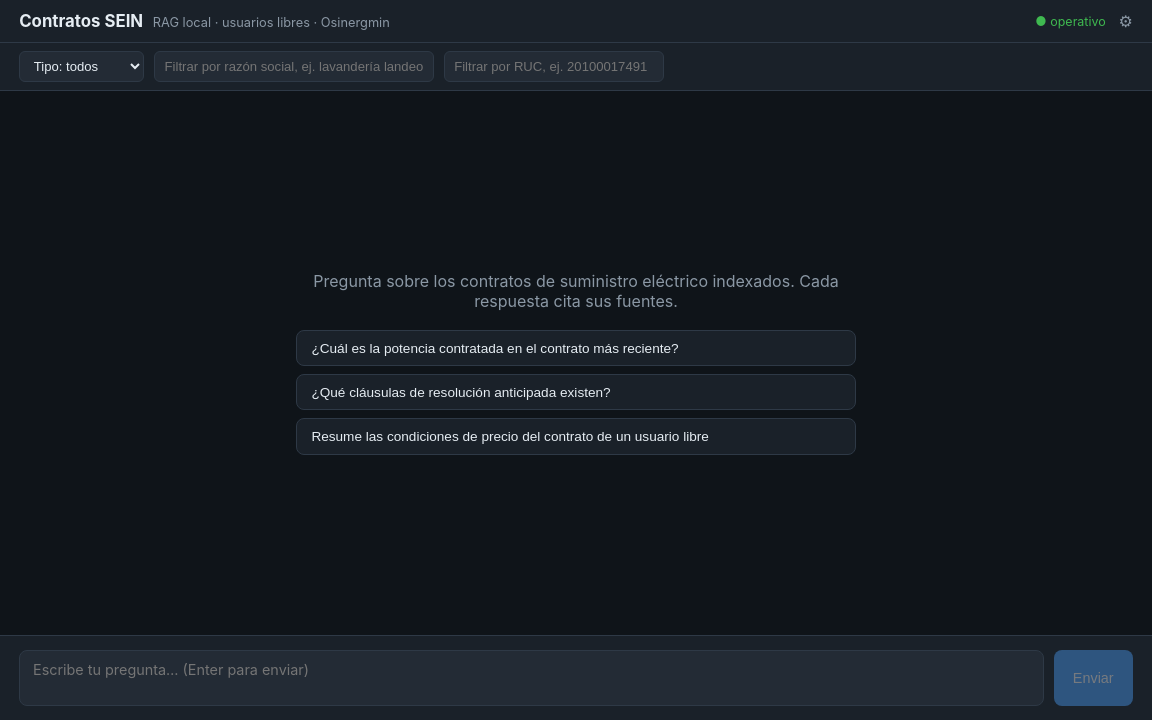
Test case: App › muestra el error del backend sin romper la conversación
Type "¿Potencia contratada?" into the text box with placeholder "Escribe tu pregunta… (Enter para enviar)".
click(532, 678); type("¿Potencia contratada?")  # box [19,650,1044,706]
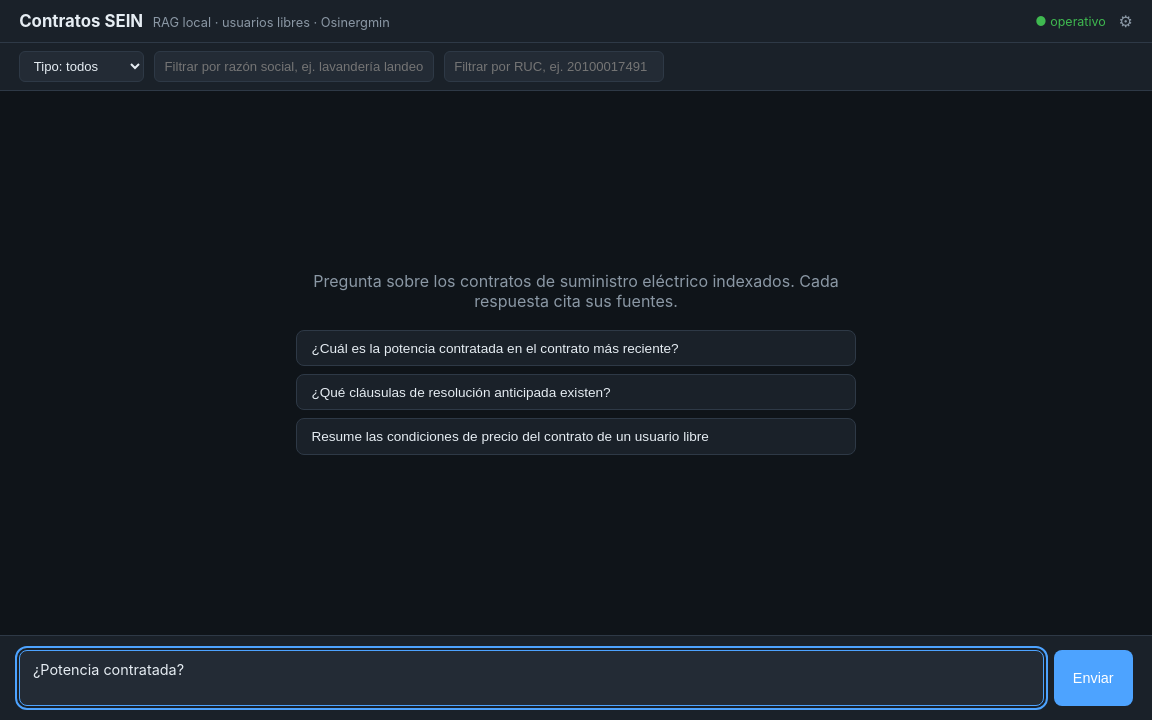
Click the button "Enviar".
click(1093, 678)  # box [1054,650,1133,706]
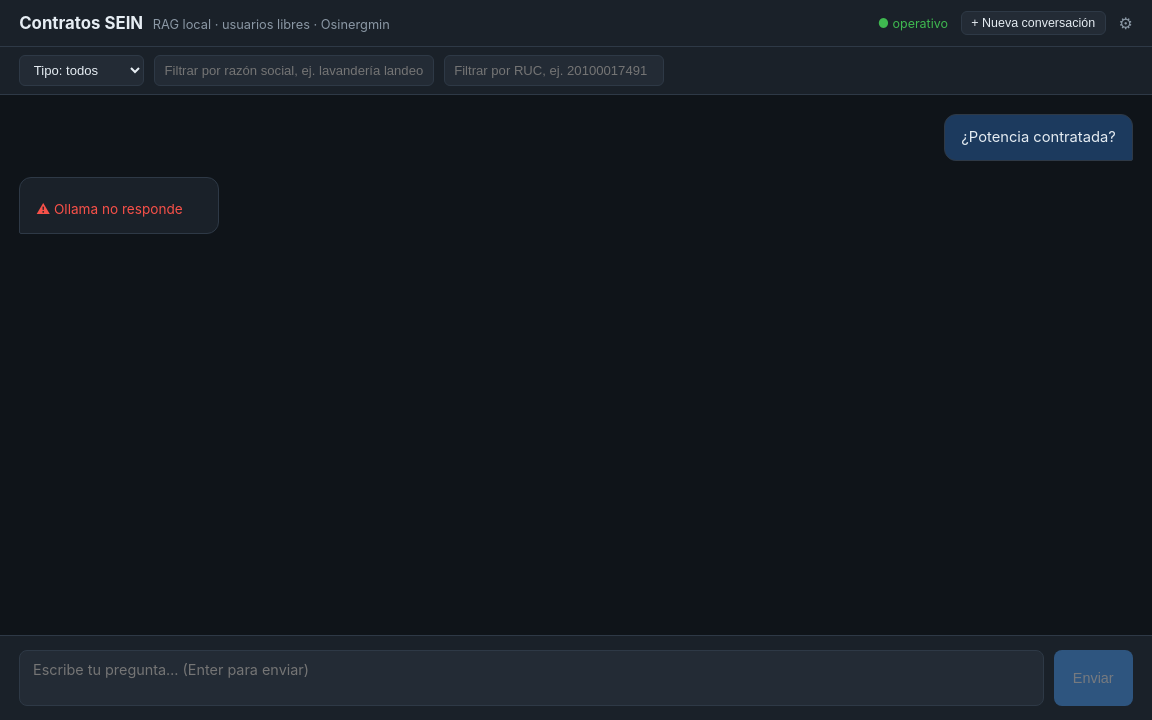
Now the text "⚠ Ollama no responde" is shown, box [36,199,202,220]
